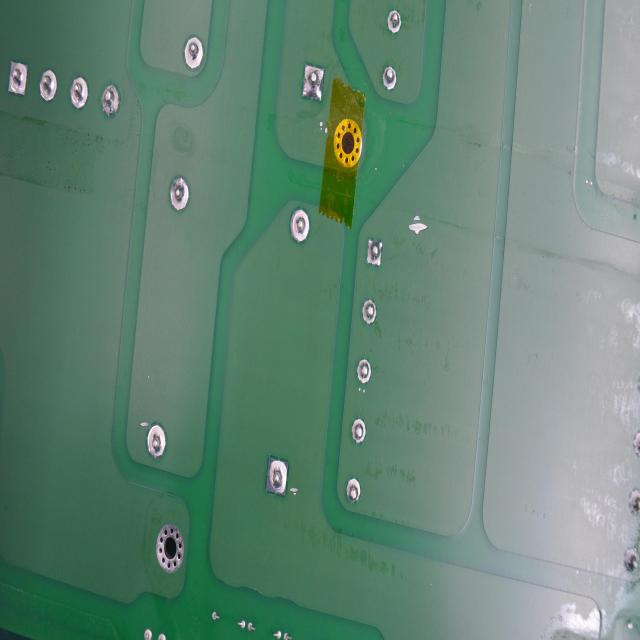spillover: (409, 216, 427, 234), (138, 418, 150, 431), (319, 122, 328, 138), (289, 485, 300, 495)
